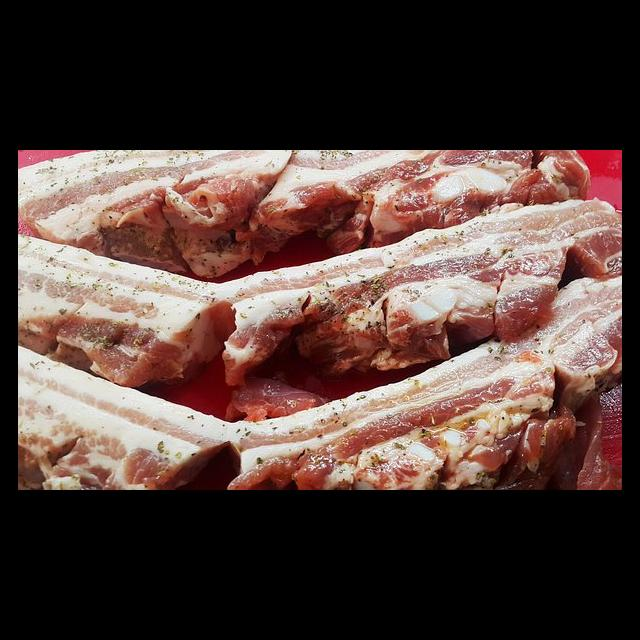pork: (234, 215, 551, 359), (268, 357, 570, 490), (18, 240, 208, 388), (26, 150, 269, 262), (18, 367, 225, 490), (259, 150, 606, 218)
